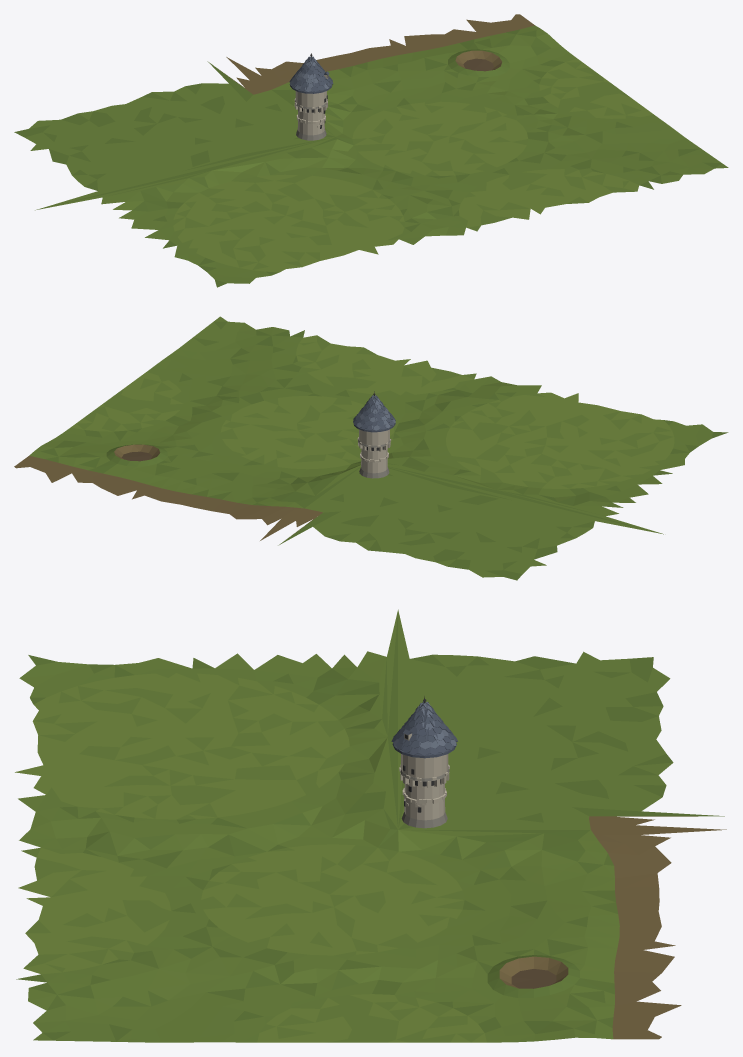
The model's file is battlefield_test.fbx.
3 renders of one model, top to bottom at view 1: azimuth 30°, elevation 25°; view 2: azimuth 150°, elevation 25°; view 3: azimuth 270°, elevation 25°, orthographic. The views are drawn at different scales.
Parts seen in each view (by area): view 1: BF_Terrain_Tile_1_1, A_Tower_FS; view 2: BF_Terrain_Tile_1_1, A_Tower_FS; view 3: BF_Terrain_Tile_1_1, A_Tower_FS.
Part boxes in pixels (x1,y1,x2,y2): BF_Terrain_Tile_1_1: (14, 14, 728, 287); A_Tower_FS: (289, 53, 333, 140); BF_Terrain_Tile_1_1: (14, 316, 728, 580); A_Tower_FS: (353, 391, 395, 478); BF_Terrain_Tile_1_1: (15, 609, 726, 1042); A_Tower_FS: (391, 696, 457, 828).
Size of the model in its own units: 380 by 58.53 by 274.
